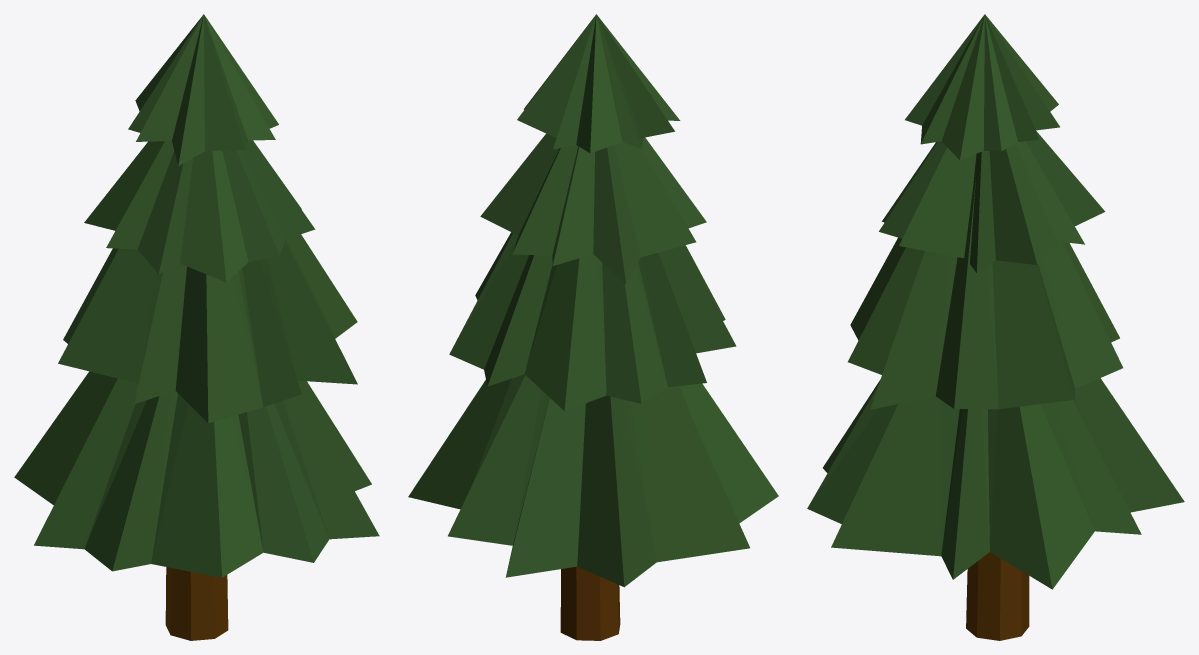
Rendered from Tree3.fbx.
The picture shows the model from 3 angles, left to right: view 1: azimuth 30°, elevation 25°; view 2: azimuth 150°, elevation 25°; view 3: azimuth 270°, elevation 25°; orthographic projection.
Parts seen in each view (by area): view 1: Tree3; view 2: Tree3; view 3: Tree3.
Boxes of the visible parts, box(x1,y1,x2,y2) form: Tree3: box(14, 14, 379, 640); Tree3: box(408, 14, 778, 640); Tree3: box(807, 14, 1184, 640).
Bounding box in the file's own units: 177 × 326 × 182.
